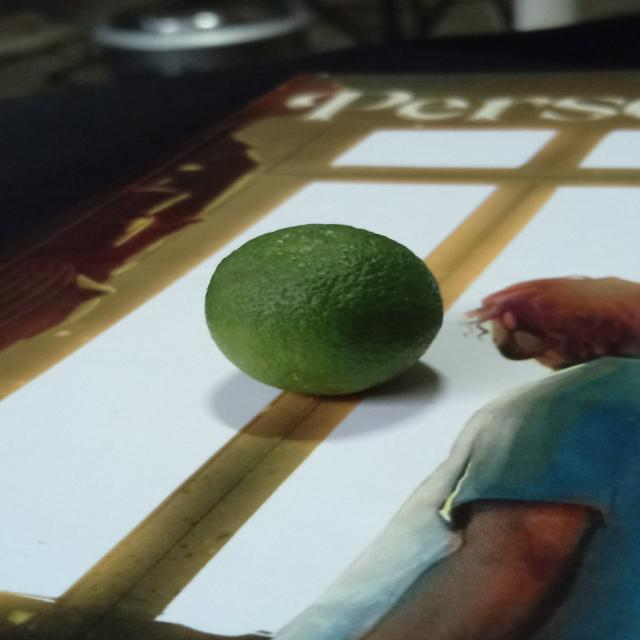heathy: (200, 222, 450, 403)
